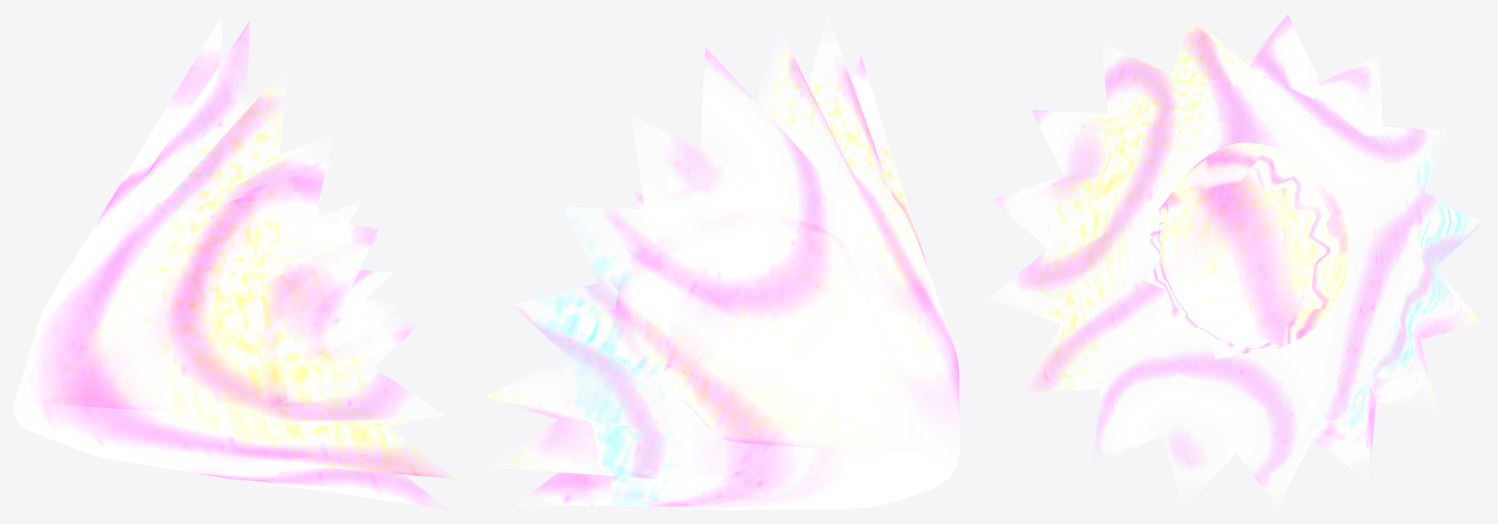
Rendered from strawberry-strike.glb.
3 views of the same model, side by side, from view 1: azimuth 30°, elevation 25°; view 2: azimuth 150°, elevation 25°; view 3: azimuth 270°, elevation 25° (orthographic). The views are drawn at different scales.
Parts seen in each view (by area): view 1: Plane; view 2: Plane; view 3: Plane.
Boxes of the visible parts, <box> form: Plane: <box>14,14,454,509</box>; Plane: <box>484,15,959,509</box>; Plane: <box>988,14,1483,508</box>.
Bounding box in the file's own units: 11.48 × 13.85 × 14.09.
Materials: 1 (1 with a texture image).
